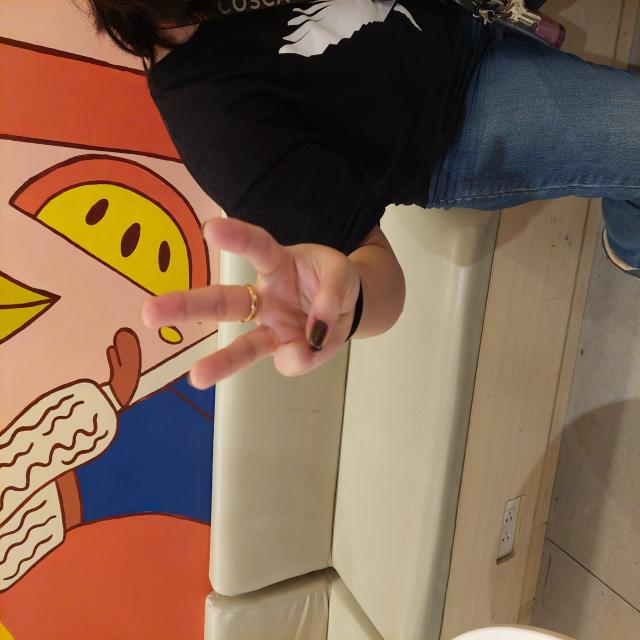W: (248, 140, 425, 361)
